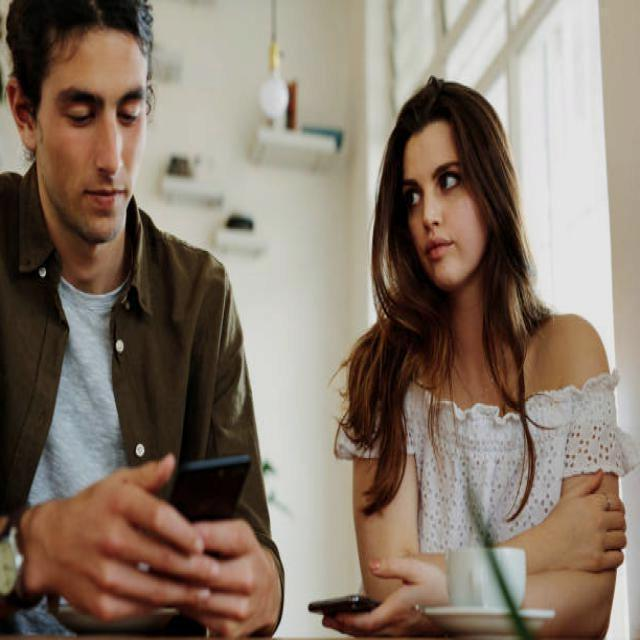Looking away: (402, 120, 476, 292)
Phone use: (0, 0, 284, 640)
